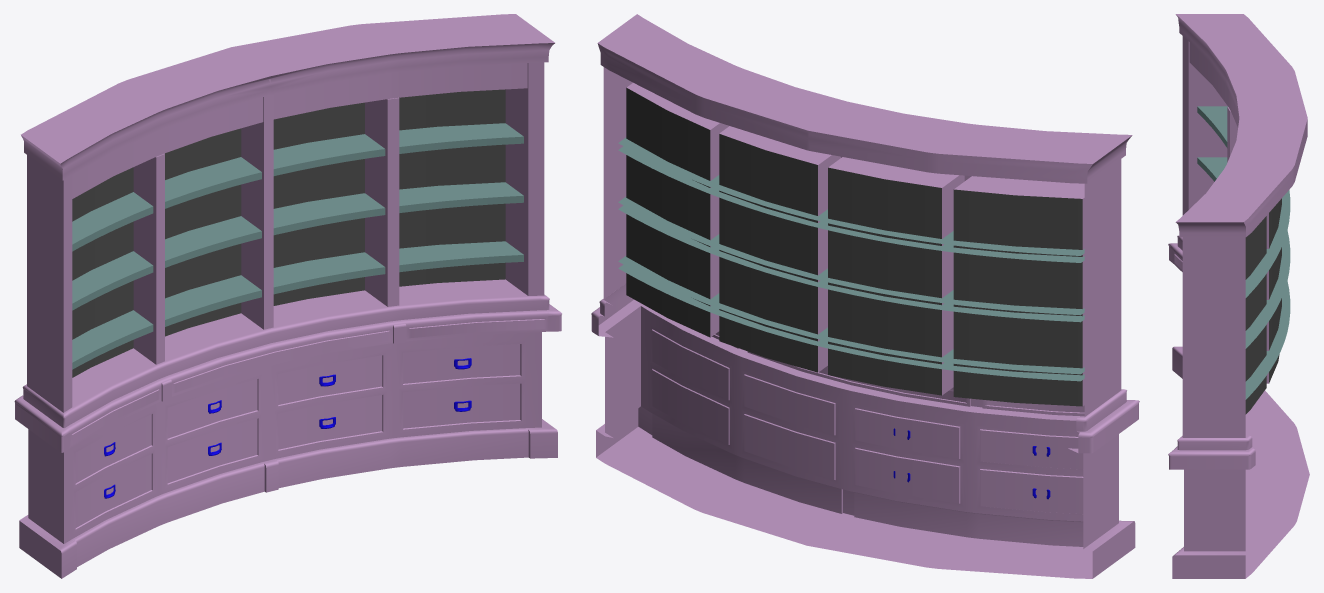
File: N_Bibliothèque.fbx
3 views of the same model, side by side, from view 1: azimuth 30°, elevation 25°; view 2: azimuth 150°, elevation 25°; view 3: azimuth 270°, elevation 25° (orthographic). The views are drawn at different scales.
Visible parts, largest first — view 1: Box001; view 2: Box001; view 3: Box001.
Boxes of the visible parts, left/top/right/bottom form: Box001: left=14, top=14, right=561, bottom=578; Box001: left=591, top=14, right=1139, bottom=578; Box001: left=1168, top=14, right=1309, bottom=578.
Bounding box in the file's own units: 319 × 252 × 90.75.
